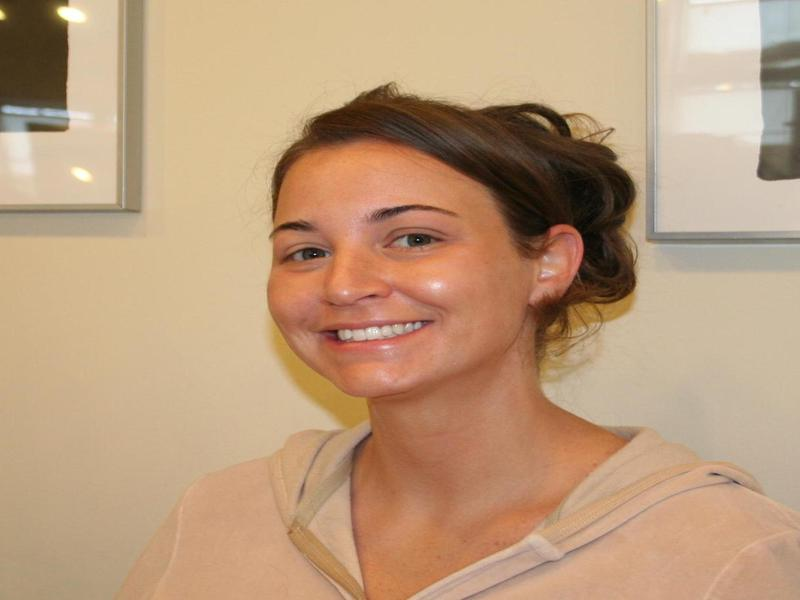person: (136, 90, 797, 600)
